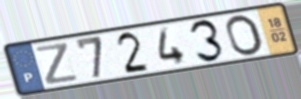2: (116, 30, 152, 76)
3: (186, 18, 226, 64)
4: (157, 26, 188, 66)
7: (74, 35, 106, 81)
O: (224, 13, 266, 58)
Z: (34, 41, 81, 87)
